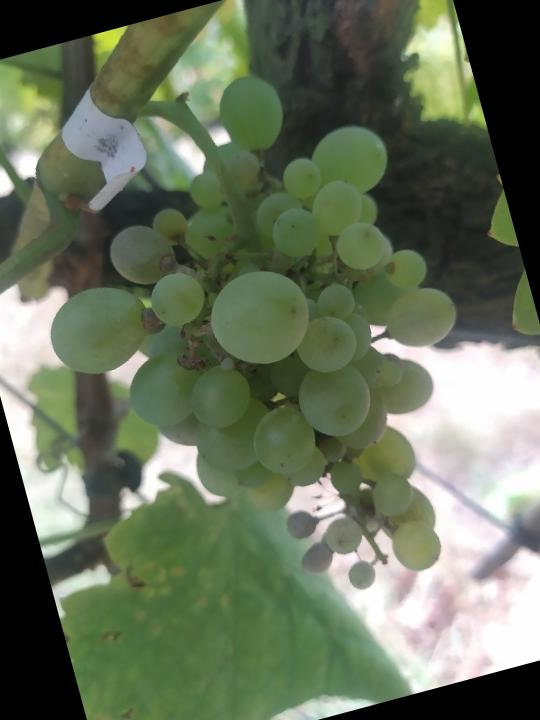grape: (0, 36, 526, 655)
